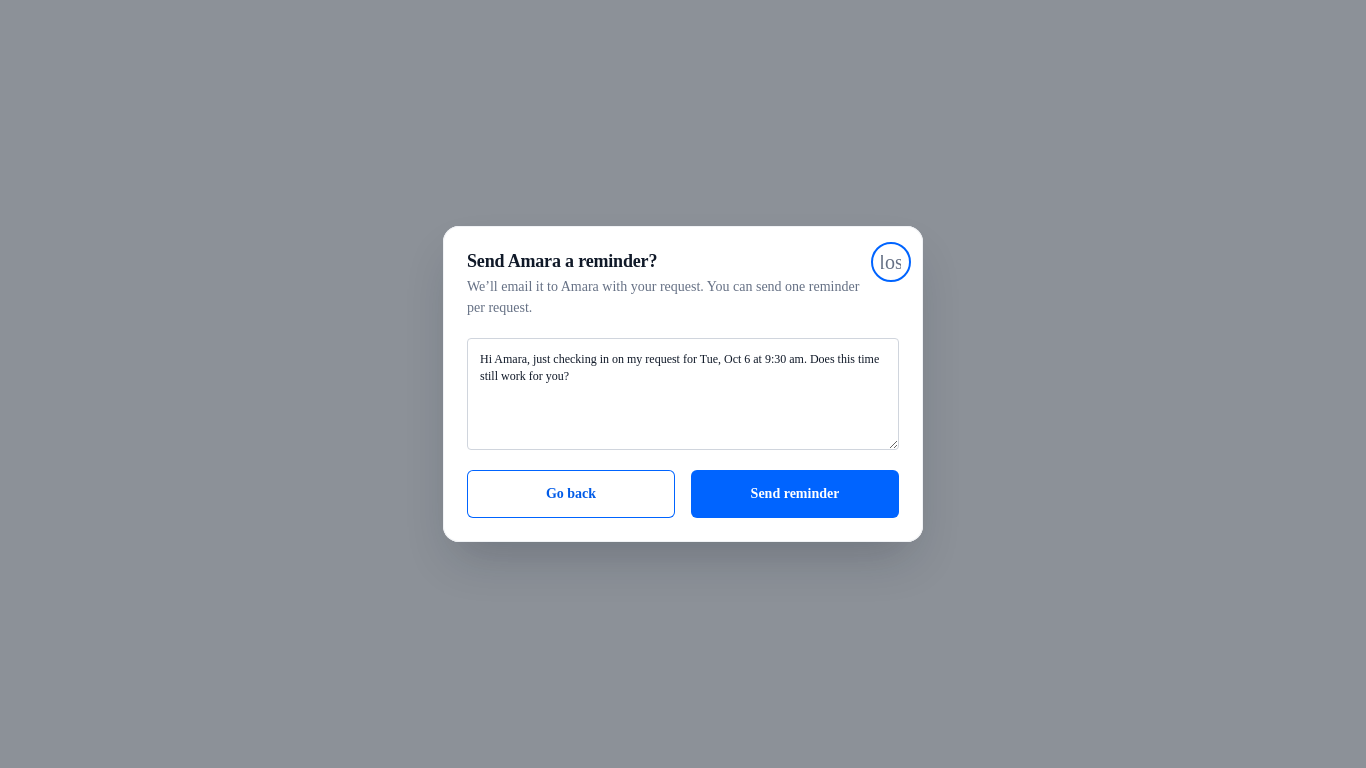
Test: the reminder dialog › an empty box isn’t sent: Send says why and focus goes to the box
Clear the text box named "Reminder message". click: (683, 394)
box: [467,338,899,450]
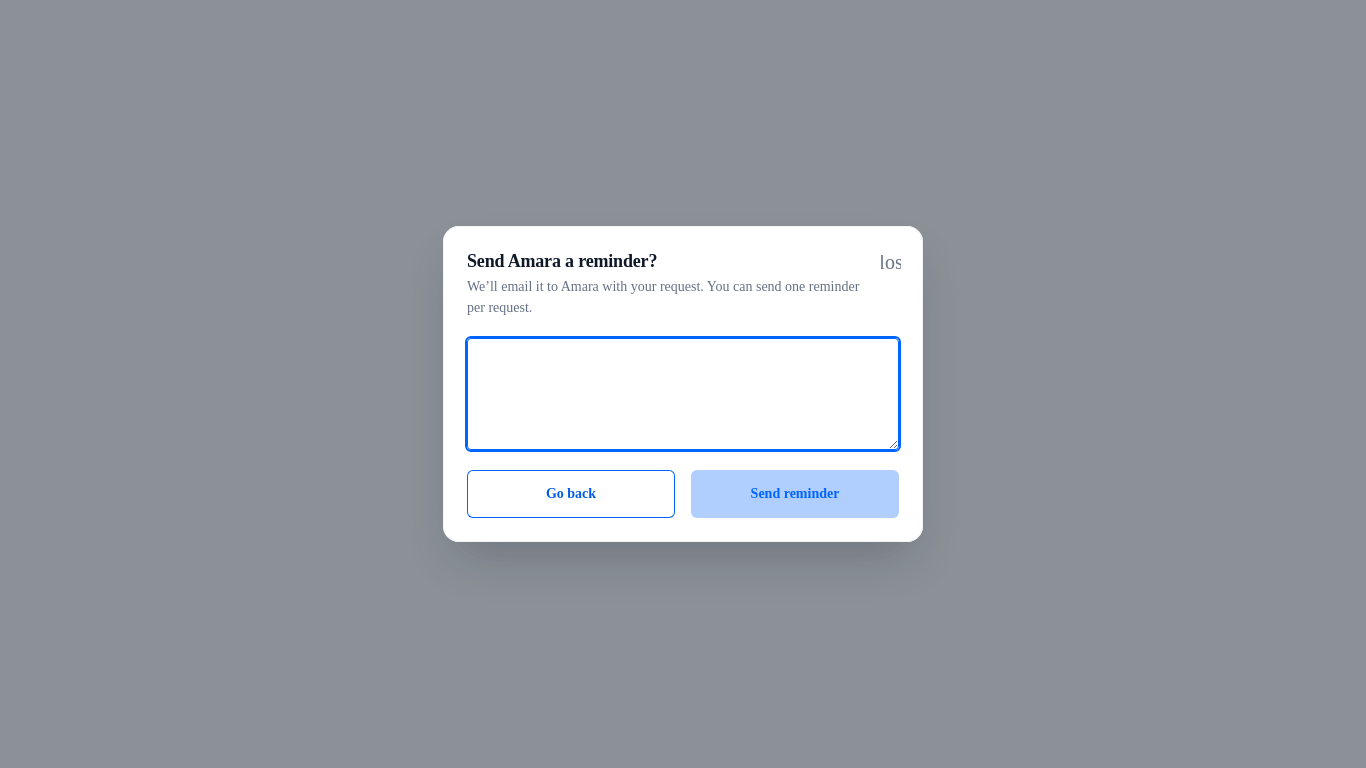
Click the button "Send reminder". click: (795, 494)
box: [691,470,899,518]
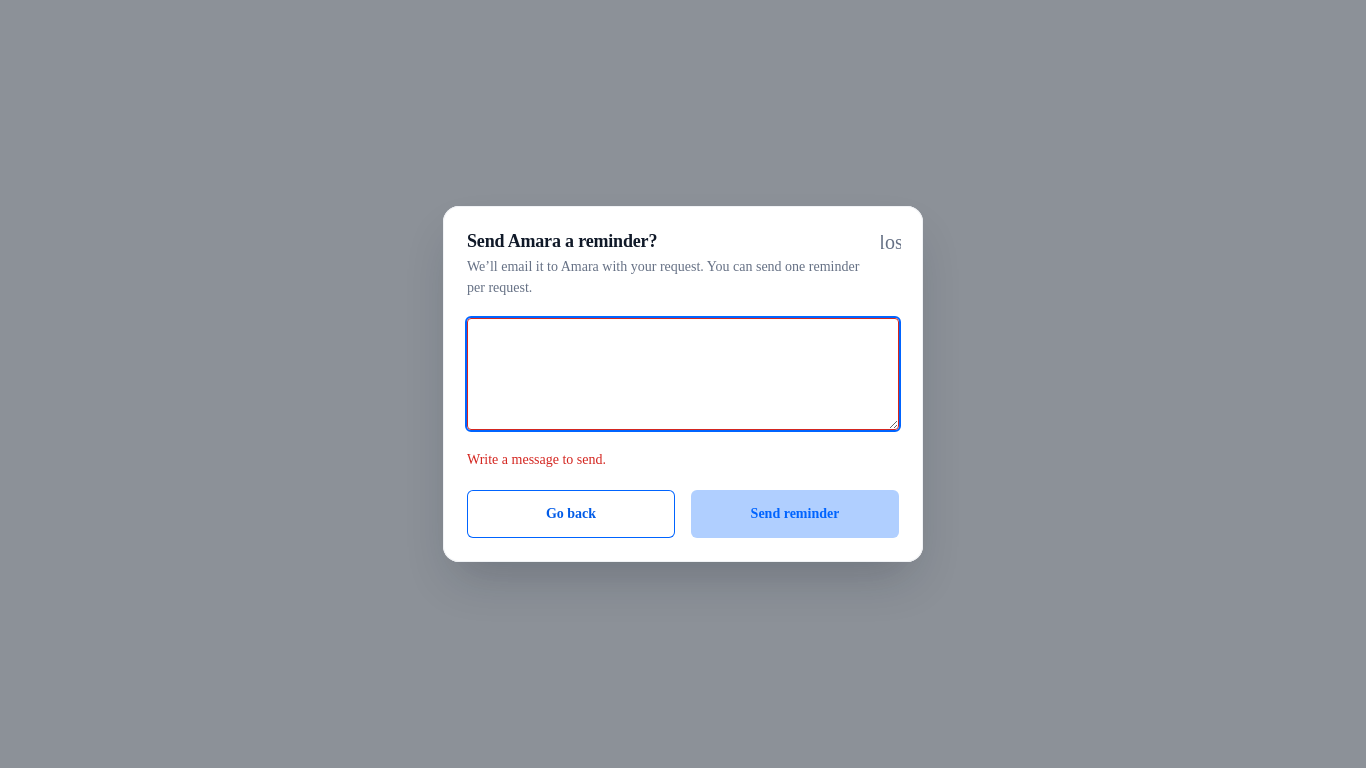
Expected: the message reads "Write a message to send.", [467,452,606,467]
